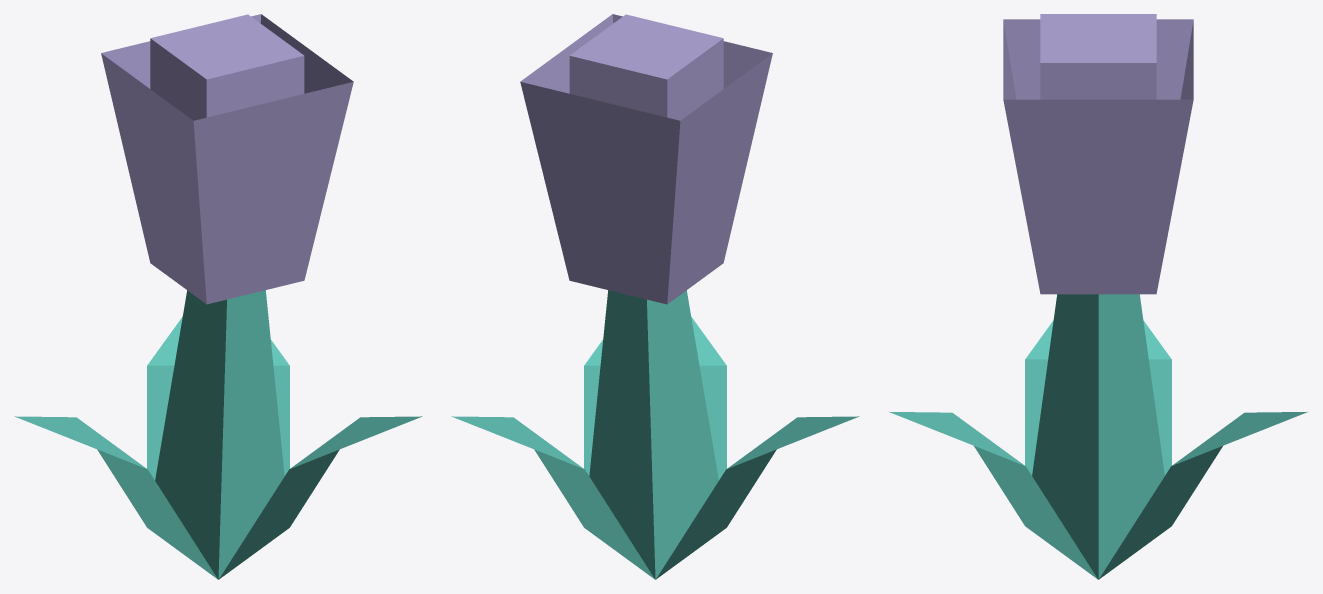
Rendered from flower_purpleA.glb.
3 views of the same model, side by side, from view 1: azimuth 30°, elevation 25°; view 2: azimuth 150°, elevation 25°; view 3: azimuth 270°, elevation 25° (orthographic). The views are drawn at different scales.
Visible parts, largest first — view 1: flower_purpleA; view 2: flower_purpleA; view 3: flower_purpleA.
Part boxes in pixels (box(x1,y1,x2,y2)): flower_purpleA: box(14, 14, 422, 579); flower_purpleA: box(451, 14, 859, 579); flower_purpleA: box(888, 14, 1308, 579).
Bounding box in the file's own units: 0.1591 × 0.2425 × 0.1811.
